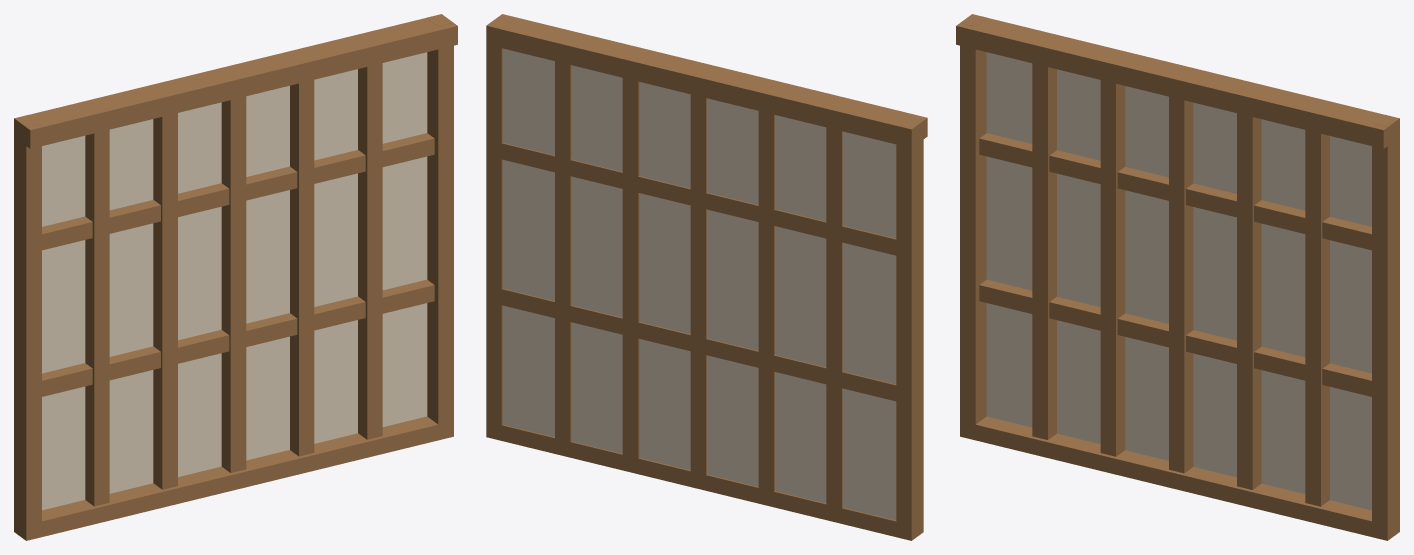
The model's file is Door.fbx.
3 views of the same model, side by side, from view 1: azimuth 30°, elevation 25°; view 2: azimuth 150°, elevation 25°; view 3: azimuth 330°, elevation 25° (orthographic).
Visible parts, largest first — view 1: Door; view 2: Door; view 3: Door.
Part boxes in pixels (<box>): Door: <box>14,14,457,540</box>; Door: <box>486,14,927,540</box>; Door: <box>956,14,1399,540</box>.
Bounding box in the file's own units: 400 × 370 × 26.18.
